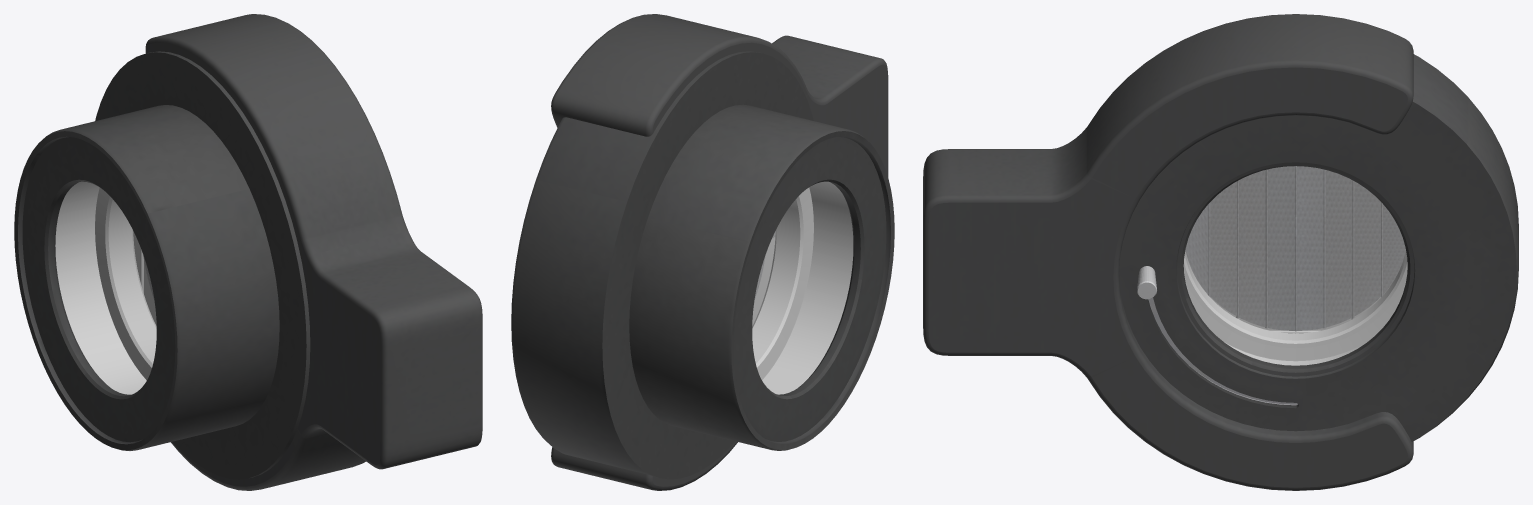
File: Ilumin.fbx
3 views of the same model, side by side, from view 1: azimuth 30°, elevation 25°; view 2: azimuth 150°, elevation 25°; view 3: azimuth 270°, elevation 25° (orthographic). The views are drawn at different scales.
Parts seen in each view (by area): view 1: I_BOut, I_Cover, I_BIn, I_Glass; view 2: I_BOut, I_BIn, I_Cover, I_Glass; view 3: I_Cover, I_BIn, I_Glass, I_SFour, I_SFive, I_SSix, I_SThree, I_STwo, I_SSeven, I_SOne, I_SEight.
Boxes of the visible parts, box(x1,y1,x2,y2) form: I_BOut: box(14, 105, 279, 450); I_Cover: box(145, 14, 482, 490); I_BIn: box(95, 51, 310, 479); I_Glass: box(56, 182, 155, 393); I_BOut: box(629, 104, 894, 450); I_BIn: box(511, 51, 813, 479); I_Cover: box(551, 14, 888, 490); I_Glass: box(753, 182, 852, 393); I_Cover: box(923, 14, 1413, 490); I_BIn: box(1119, 54, 1518, 441); I_Glass: box(1184, 166, 1406, 364); I_SFour: box(1265, 166, 1296, 331); I_SFive: box(1295, 166, 1326, 330); I_SSix: box(1323, 170, 1354, 327); I_SThree: box(1237, 169, 1267, 328); I_STwo: box(1208, 180, 1239, 318); I_SSeven: box(1352, 181, 1383, 316); I_SOne: box(1185, 202, 1210, 297); I_SEight: box(1381, 204, 1405, 294).
Size of the model in its own units: 23.44 by 40.63 by 50.99.
